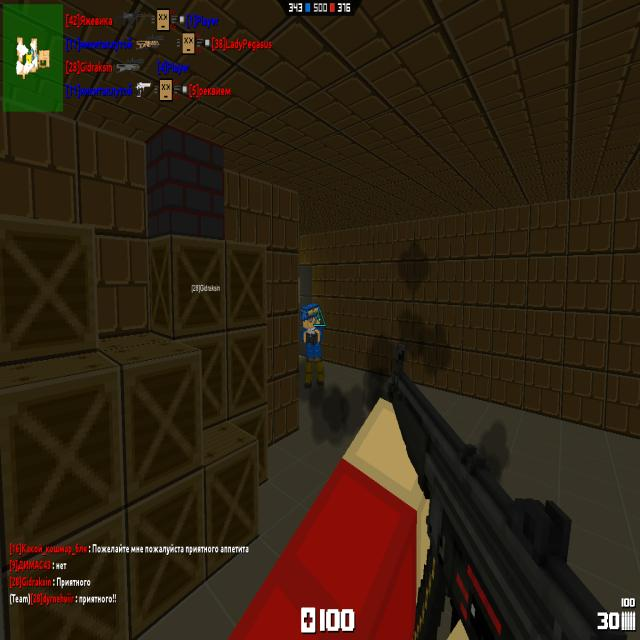enemy: (301, 302, 324, 388)
